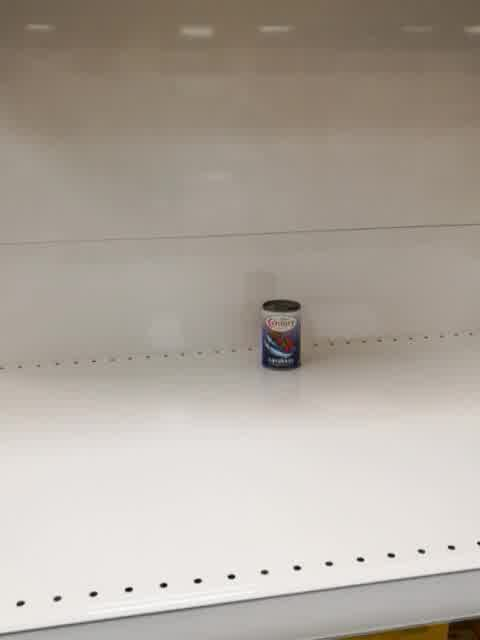sardine: (260, 297, 301, 372)
